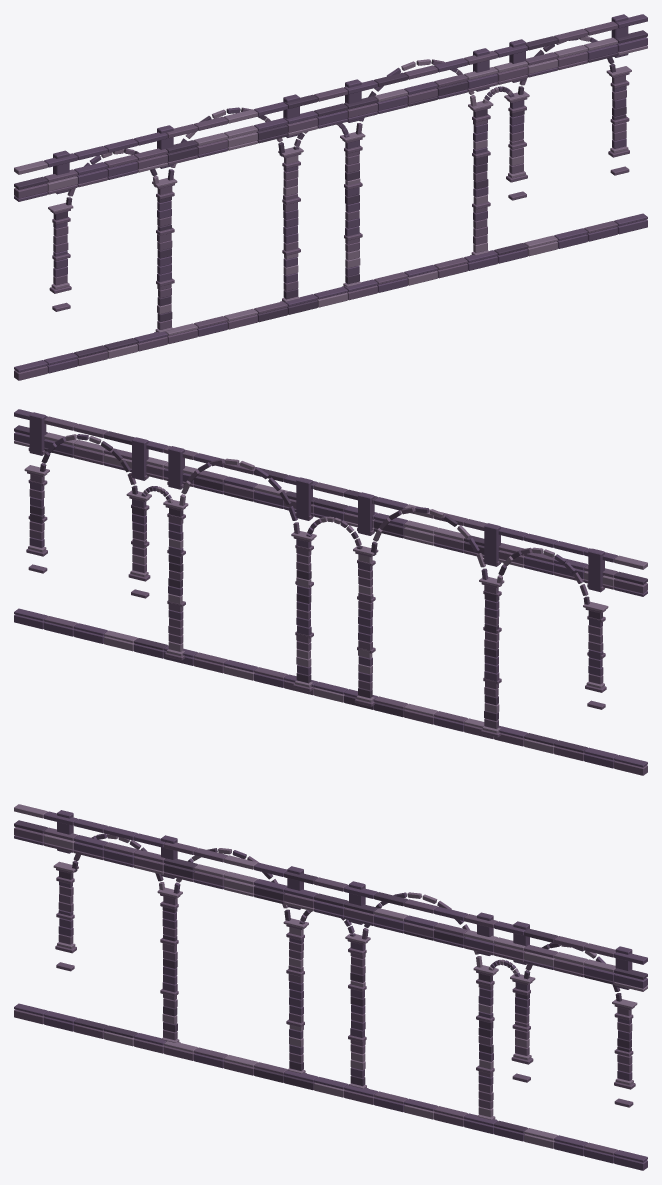
The model's file is SM_Vault_Architecture.fbx.
The picture shows the model from 3 angles, top to bottom: view 1: azimuth 30°, elevation 25°; view 2: azimuth 150°, elevation 25°; view 3: azimuth 330°, elevation 25°; orthographic projection.
Visible parts, largest first — view 1: SM_Vault_Architecture; view 2: SM_Vault_Architecture; view 3: SM_Vault_Architecture.
Part boxes in pixels (box(x1,y1,x2,y2)): SM_Vault_Architecture: box(14, 14, 647, 380); SM_Vault_Architecture: box(14, 409, 647, 775); SM_Vault_Architecture: box(14, 804, 647, 1170).
Bounding box in the file's own units: 3966 × 87.5 × 1308.
